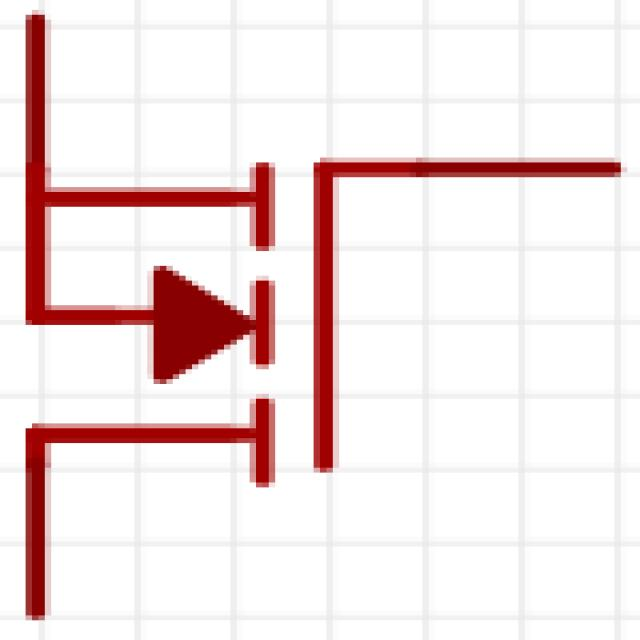nmos: (6, 2, 612, 604)
